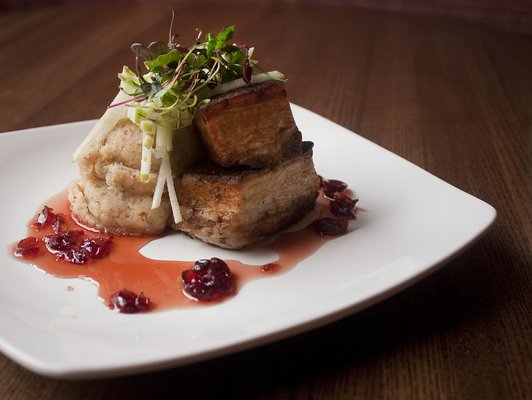curry: (10, 1, 531, 394)
